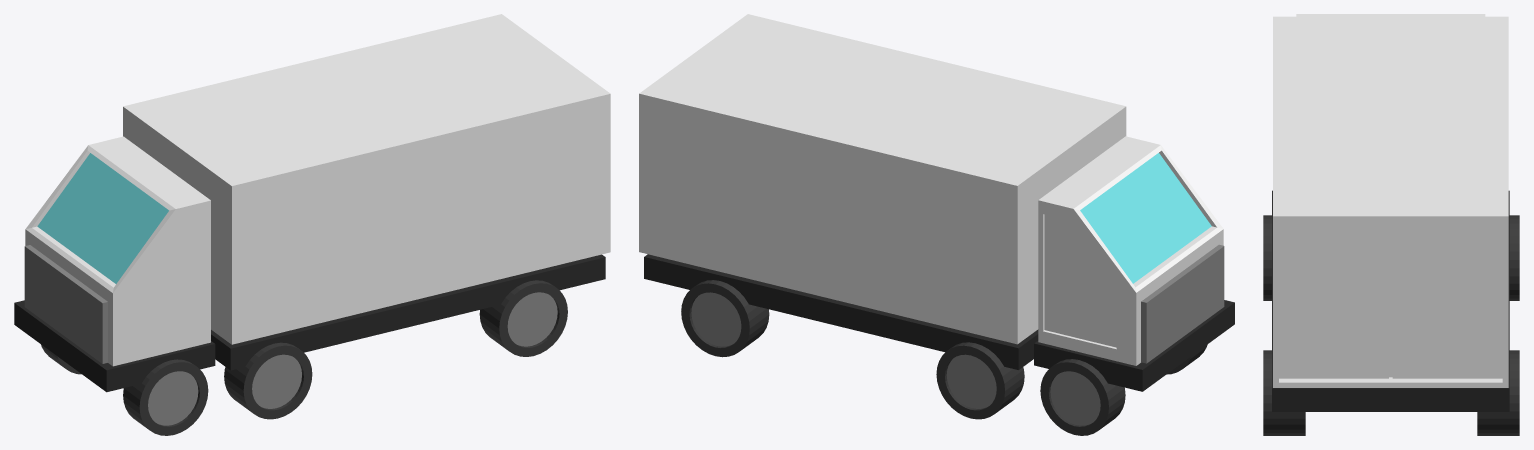
File: military van.glb
3 views of the same model, side by side, from view 1: azimuth 30°, elevation 25°; view 2: azimuth 150°, elevation 25°; view 3: azimuth 270°, elevation 25° (orthographic). The views are drawn at different scales.
Visible parts, largest first — view 1: Cube.001, Cube.002, Cube.005, Cube, Cube.003; view 2: Cube.001, Cube.002, Cube.005, Cube, Cube.003; view 3: Cube.001, Cube, Cube.005, Cube.002.
Boxes of the visible parts, <box> form: Cube.001: <box>123,14,610,344</box>; Cube.002: <box>24,136,210,366</box>; Cube.005: <box>41,280,567,435</box>; Cube: <box>211,254,605,370</box>; Cube.003: <box>14,300,215,392</box>; Cube.001: <box>639,14,1126,344</box>; Cube.002: <box>1038,136,1224,365</box>; Cube.005: <box>681,280,1207,435</box>; Cube: <box>644,254,1038,369</box>; Cube.003: <box>1034,300,1234,391</box>; Cube.001: <box>1273,16,1508,387</box>; Cube: <box>1272,190,1509,411</box>; Cube.005: <box>1263,215,1519,435</box>; Cube.002: <box>1296,14,1485,16</box>.
Size of what is drawn, in the model's own units: 6.54 by 3.02 by 2.71.
